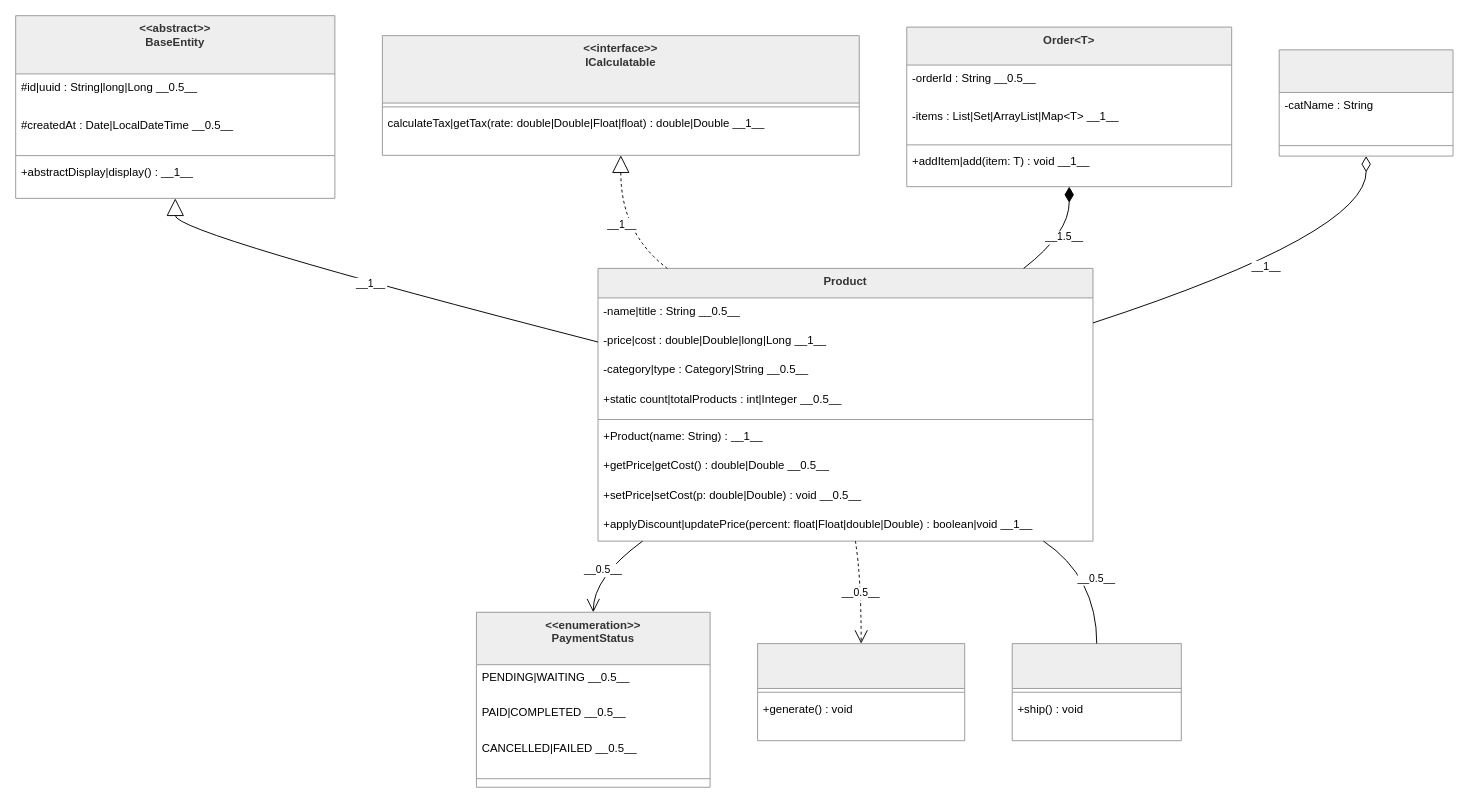
This 1469x803 diagram has some shape labels left out. Each missing label, with the box of its shape:
Category: (1278, 49, 1453, 156)
InvoiceGenerator: (757, 643, 965, 741)
ShippingService: (1011, 643, 1181, 741)
